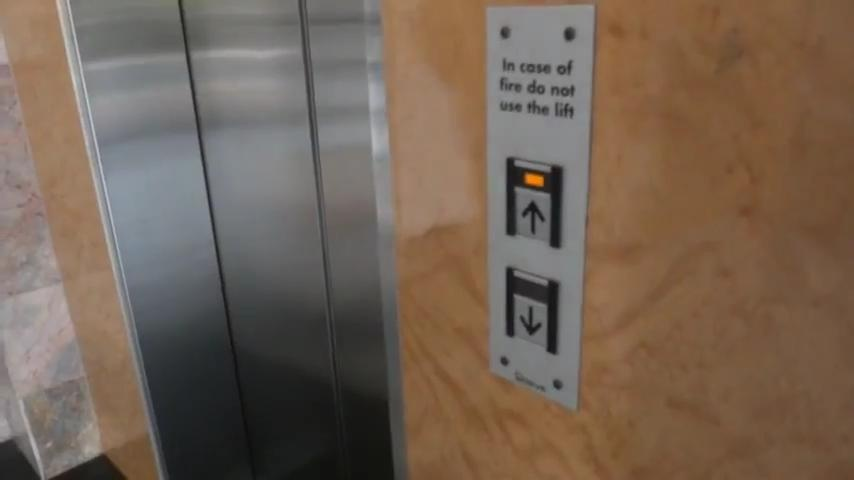down: (504, 264, 561, 356)
up: (505, 156, 565, 249)
